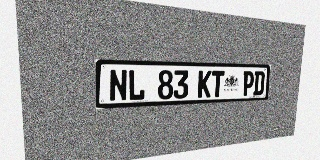3: (173, 70, 189, 99)
8: (158, 70, 174, 100)
D: (253, 71, 265, 95)
K: (197, 70, 212, 98)
L: (128, 69, 145, 101)
N: (109, 69, 127, 102)
P: (242, 71, 254, 96)
T: (211, 71, 225, 97)
